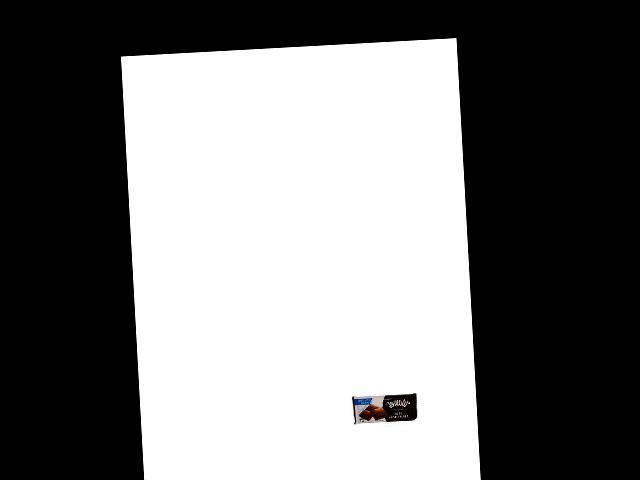chocolate: (351, 392, 417, 425)
